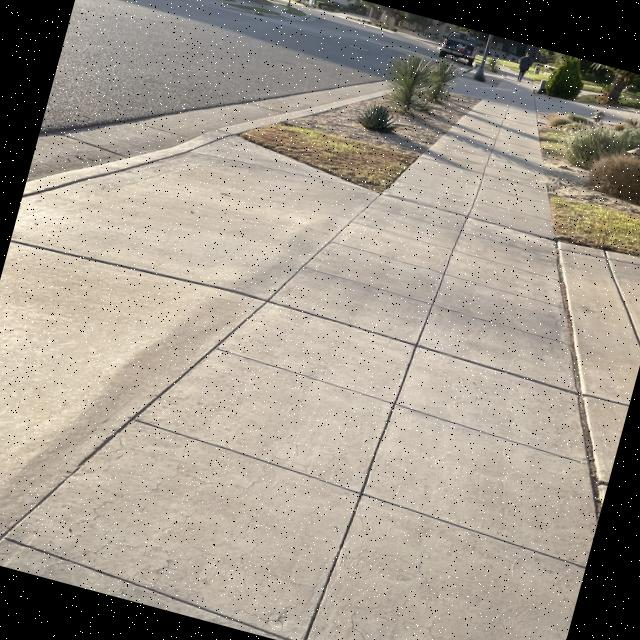curb: (88, 84, 245, 198), (213, 61, 364, 167), (38, 130, 166, 222)
road: (54, 0, 256, 135), (157, 0, 351, 92), (256, 8, 401, 78)
walkway: (140, 396, 596, 614), (57, 458, 576, 640), (242, 302, 578, 492), (328, 222, 576, 386), (401, 159, 532, 246), (449, 115, 538, 183)
walkway-edge: (511, 176, 618, 344), (498, 100, 606, 252), (222, 123, 400, 204), (386, 128, 444, 212), (443, 80, 492, 162)
